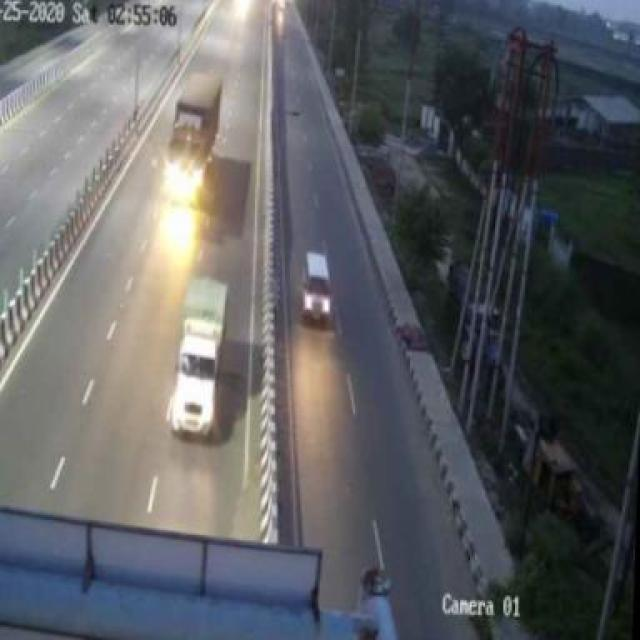car: (163, 263, 245, 440), (293, 244, 345, 328)
